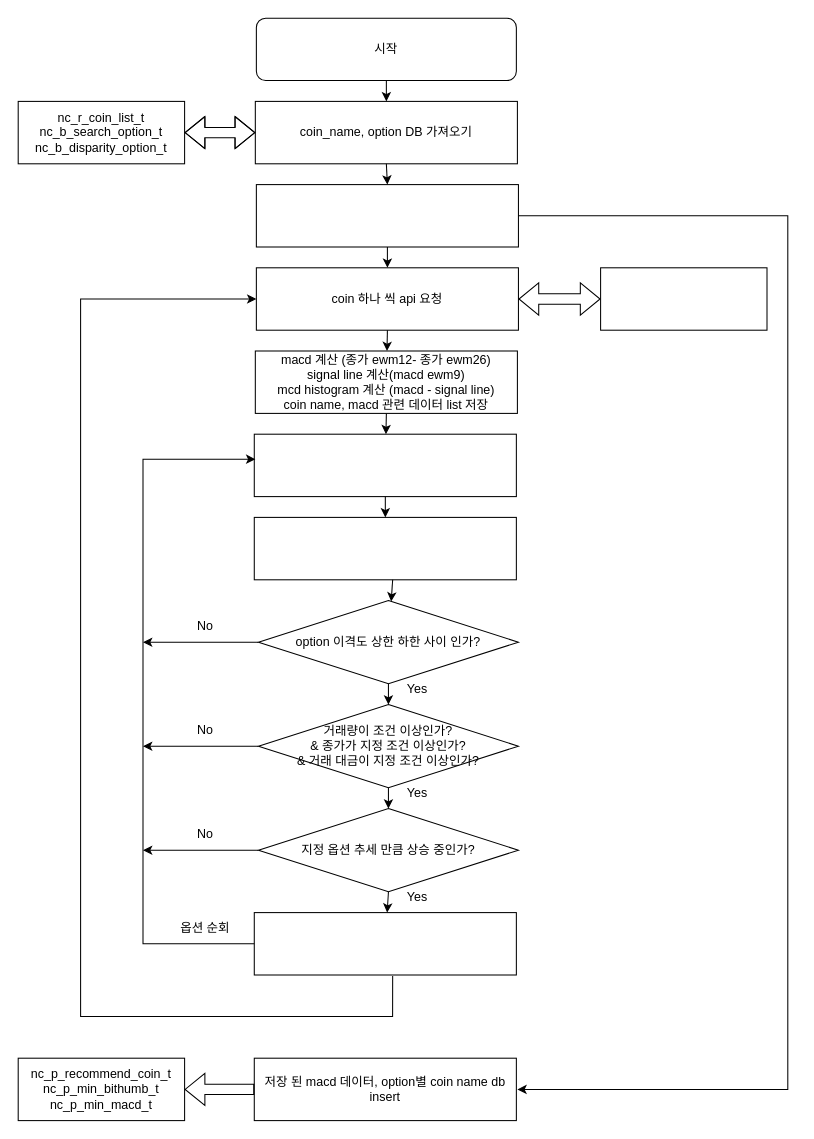
This 814x1139 diagram has some shape labels left out. The shapes that lost their labels are listed below. From the top down, each one's centre as x and y in pixels, then its label:
At (386,215): "coin 10개씩 thread run".
At (683,298): "url: https://api.bithumb.com/ public/candlestick/ { coin .coin_name } /1m".
At (384,465): "옵션 하나씩 판별".
At (384,548): "이격도 계산(종가 option 지정 개수 평균)".
At (384,943): "coin name, option name 저장".
